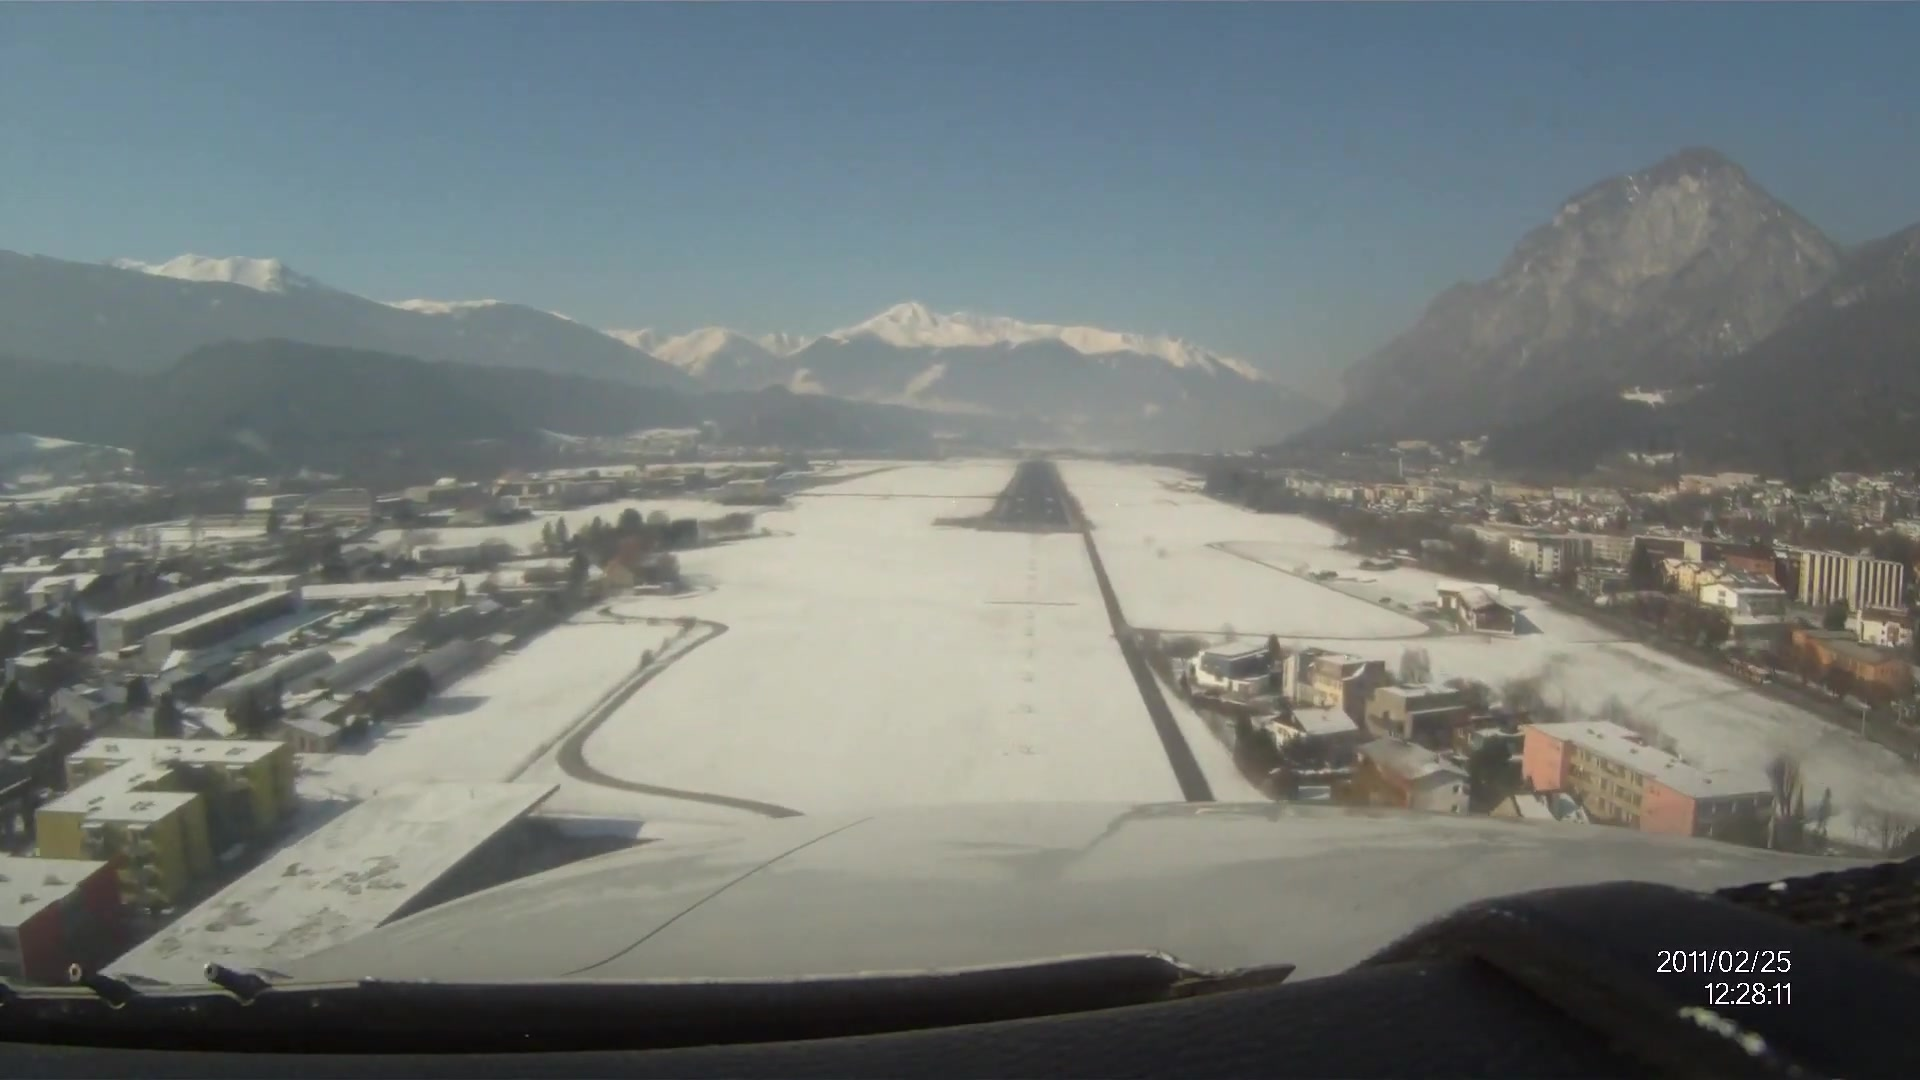runway: (1004, 460, 1069, 524)
